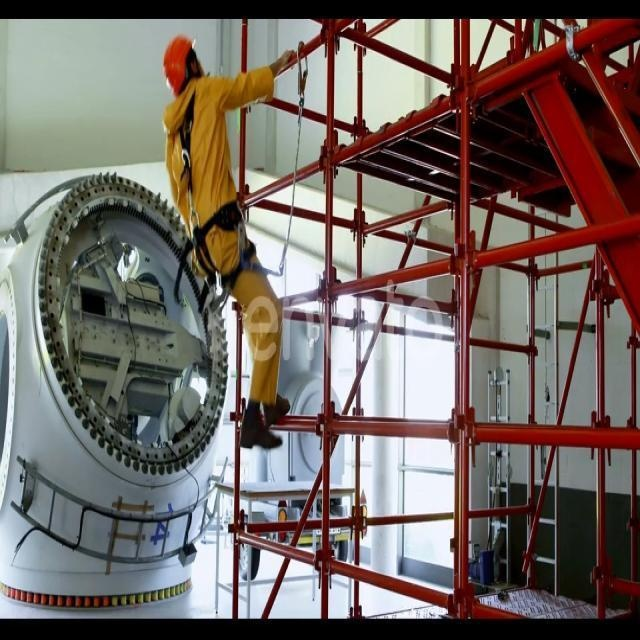Arnes_seguridad: (172, 88, 268, 305)
